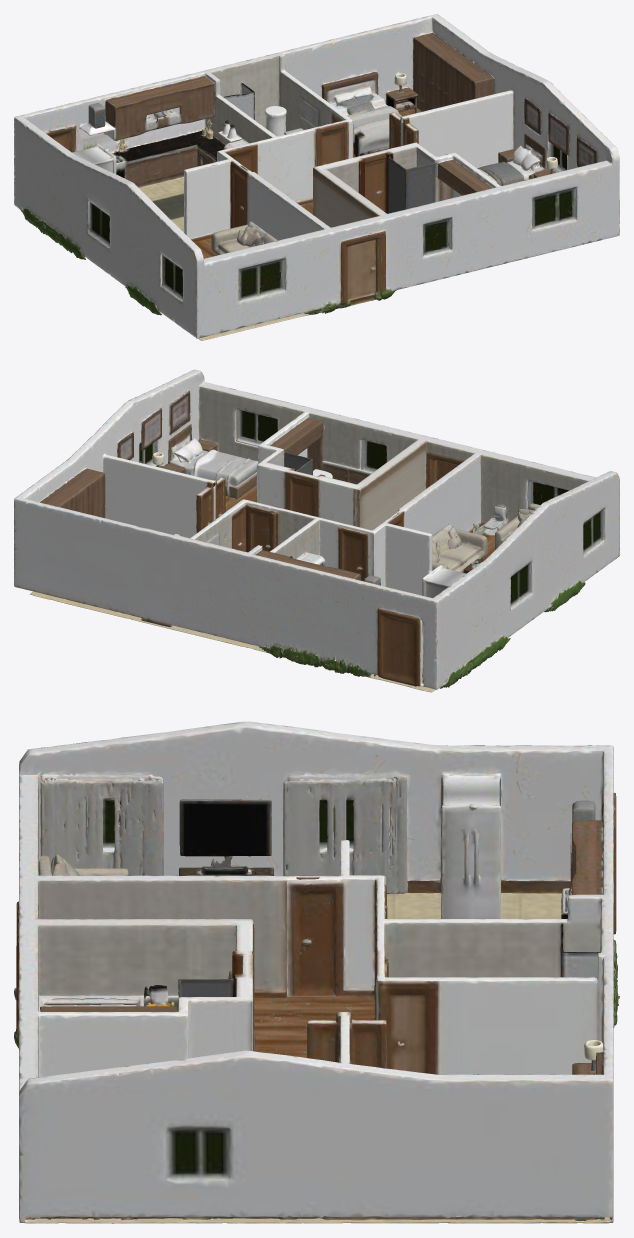
The model's file is casa.glb.
The picture shows the model from 3 angles, top to bottom: view 1: azimuth 30°, elevation 25°; view 2: azimuth 150°, elevation 25°; view 3: azimuth 270°, elevation 25°; orthographic projection. The views are drawn at different scales.
Visible parts, largest first — view 1: geometry_0; view 2: geometry_0; view 3: geometry_0.
Boxes of the visible parts, left/top/right/bottom form: geometry_0: left=14, top=14, right=619, bottom=340; geometry_0: left=14, top=369, right=619, bottom=692; geometry_0: left=14, top=721, right=619, bottom=1223.
Size of the model in its own units: 0.986 by 0.2438 by 0.7471.
Materials: 1 (1 with a texture image).
